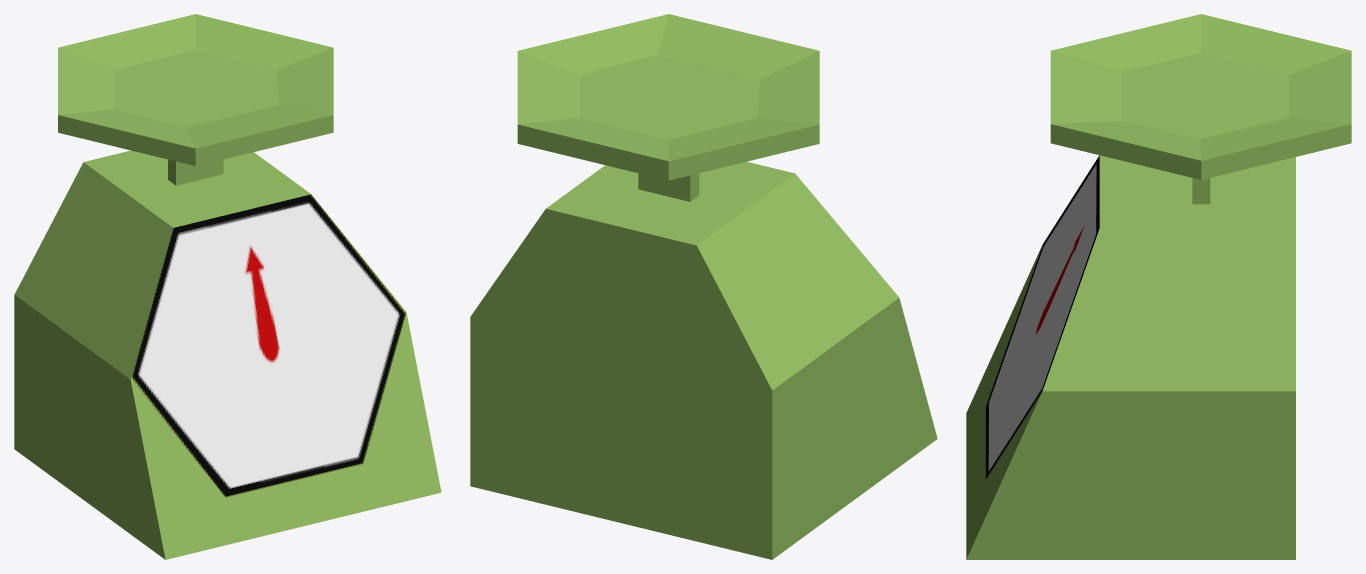
The model's file is scale4_PLY.fbx.
The picture shows the model from 3 angles, left to right: view 1: azimuth 30°, elevation 25°; view 2: azimuth 150°, elevation 25°; view 3: azimuth 270°, elevation 25°; orthographic projection. The views are drawn at different scales.
Parts seen in each view (by area): view 1: scale4_PLY; view 2: scale4_PLY; view 3: scale4_PLY.
Part boxes in pixels (box(x1,y1,x2,y2)): scale4_PLY: box(14, 14, 441, 559); scale4_PLY: box(470, 14, 937, 559); scale4_PLY: box(966, 14, 1351, 559).
Bounding box in the file's own units: 1.02 × 1.29 × 1.13.
